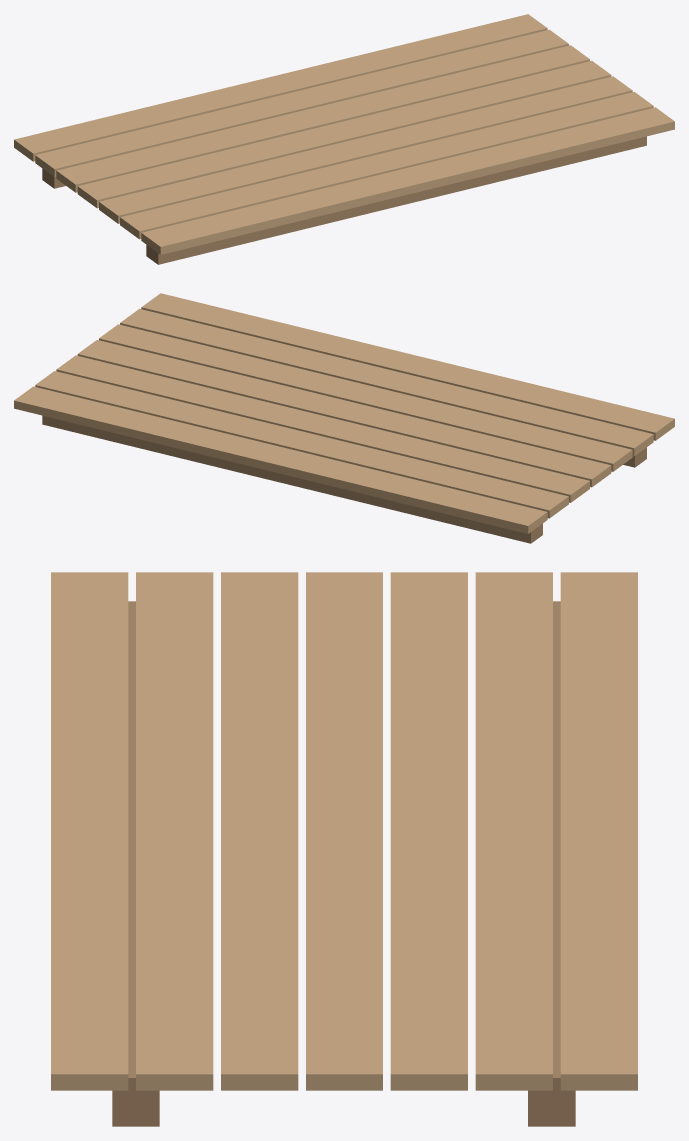
File: deck_section.glb
3 renders of one model, top to bottom at view 1: azimuth 30°, elevation 25°; view 2: azimuth 150°, elevation 25°; view 3: azimuth 270°, elevation 25°, orthographic. The views are drawn at different scales.
Size of the model in its own units: 2 by 0.12 by 0.988.
